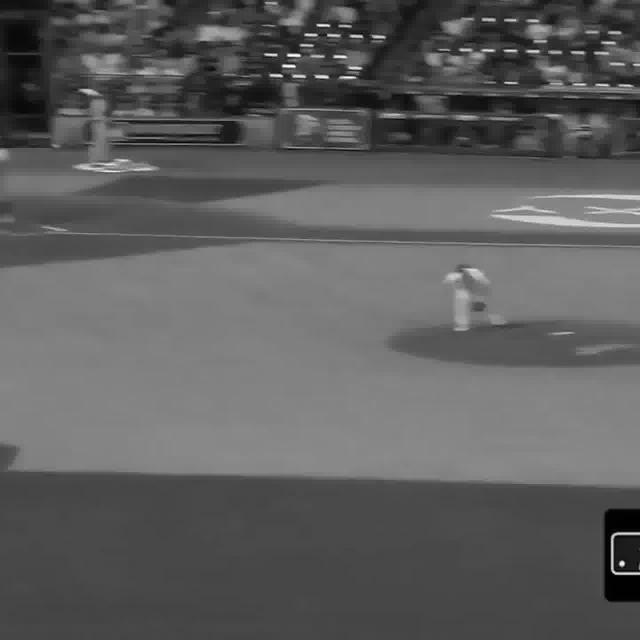baseball_glove: (473, 302, 487, 313)
shoe: (492, 316, 507, 328), (453, 324, 468, 333)
